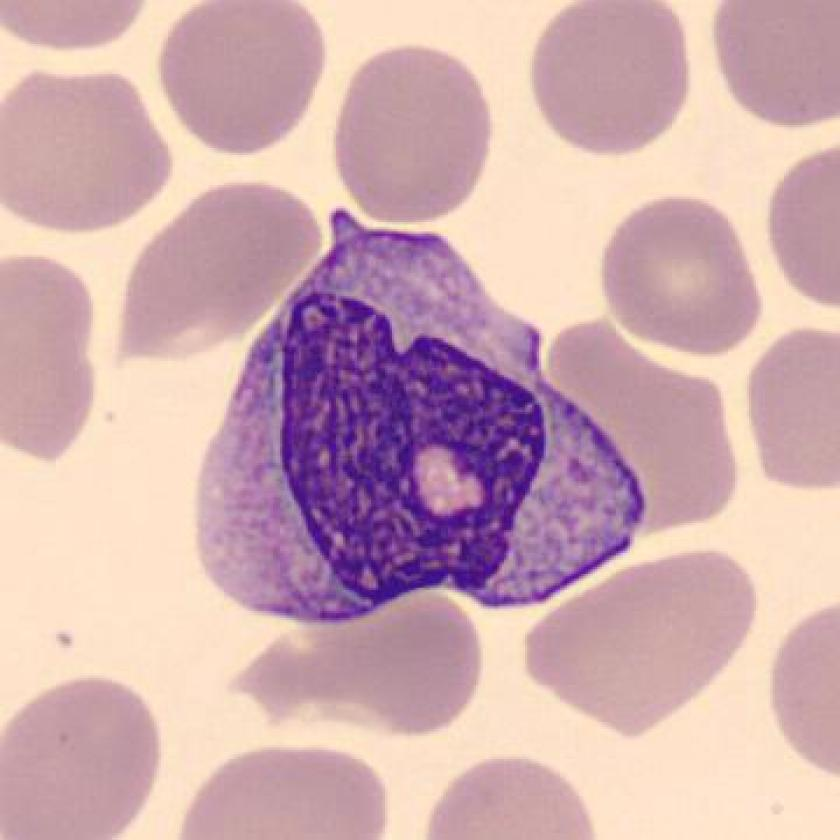monocyte: (165, 200, 669, 644)
